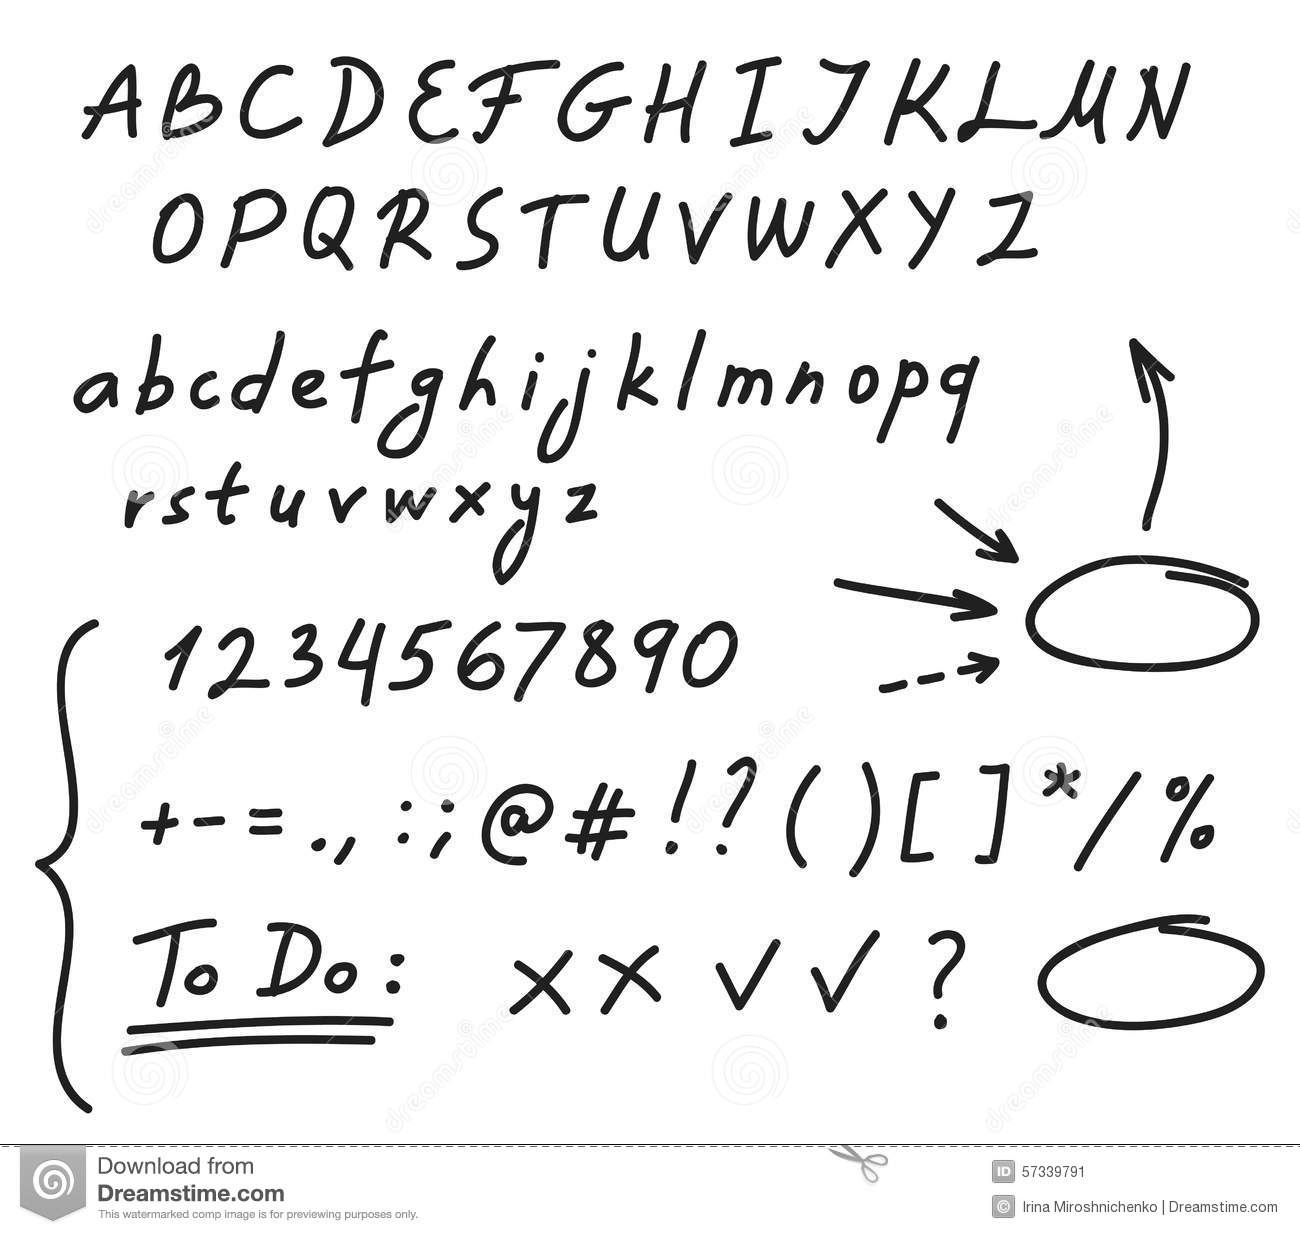arrow: (1111, 327, 1189, 470), (876, 575, 1002, 636), (896, 647, 1005, 701), (940, 520, 1029, 572)
